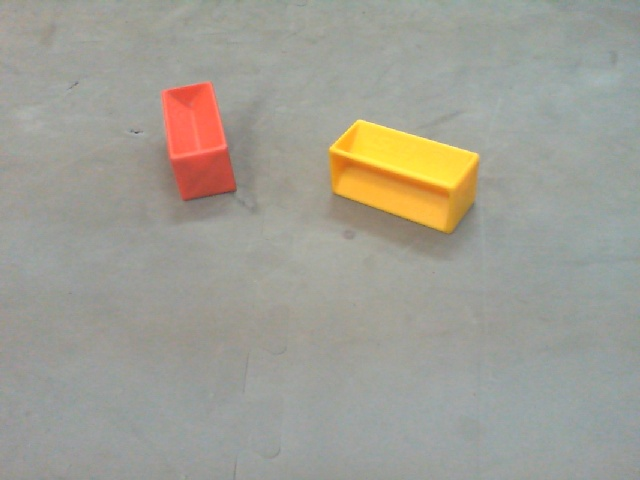RedSample: (158, 81, 239, 200)
YellowSample: (328, 119, 480, 236)
